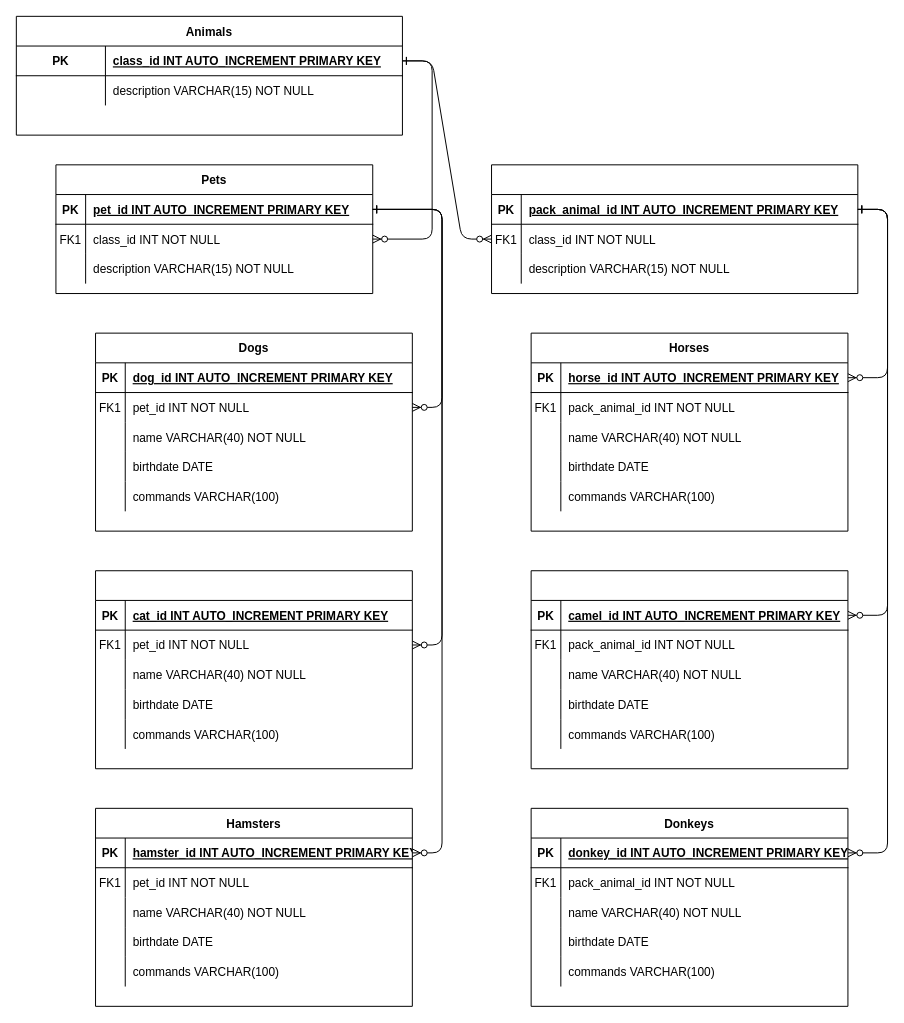
The diagram is 904 pixels wide and 1023 high, and some of its shapes have lost their labels. The shapes that lost their labels are listed below. From the top down, each one's box as (x1, y1, x2, y2) in pixels, then its label:
(491, 164, 858, 294): PackAnimals
(95, 570, 412, 769): Cats
(530, 570, 848, 769): Camels
